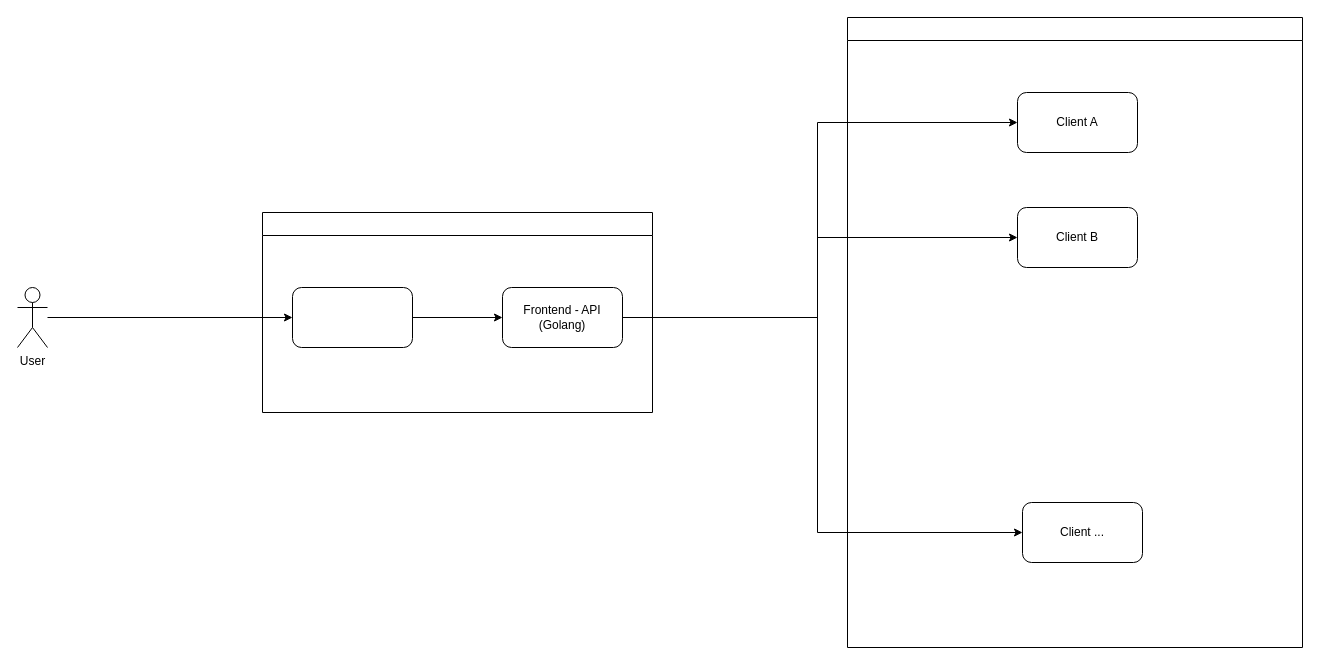
Some shapes in this 1320 by 665 pixel diagram are drawn without their labels. The shapes that lost their labels are listed below. From the top down, each one's box as (x1, y1, x2, y2) in pixels, then its label:
(292, 286, 412, 348): Frontend (Vue.js)
(262, 212, 652, 412): Server
(846, 16, 1302, 648): Clients
